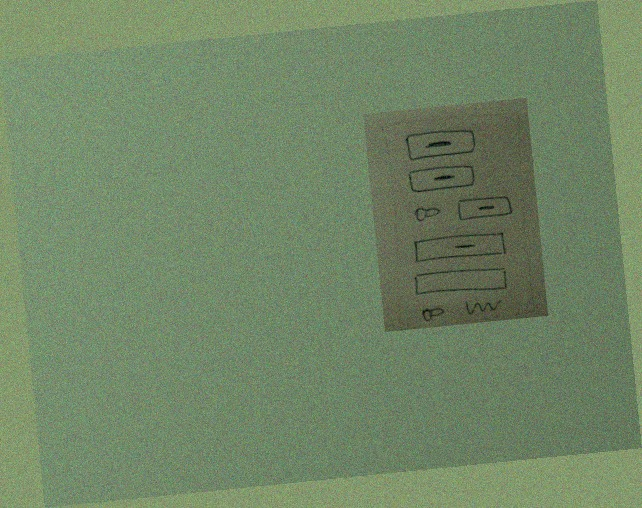button: (409, 229, 508, 265), (401, 123, 480, 165), (404, 159, 483, 201), (454, 191, 517, 222)
switch: (418, 303, 448, 324), (412, 202, 441, 223)
text: (463, 295, 505, 318)
text_input: (411, 263, 509, 300)
